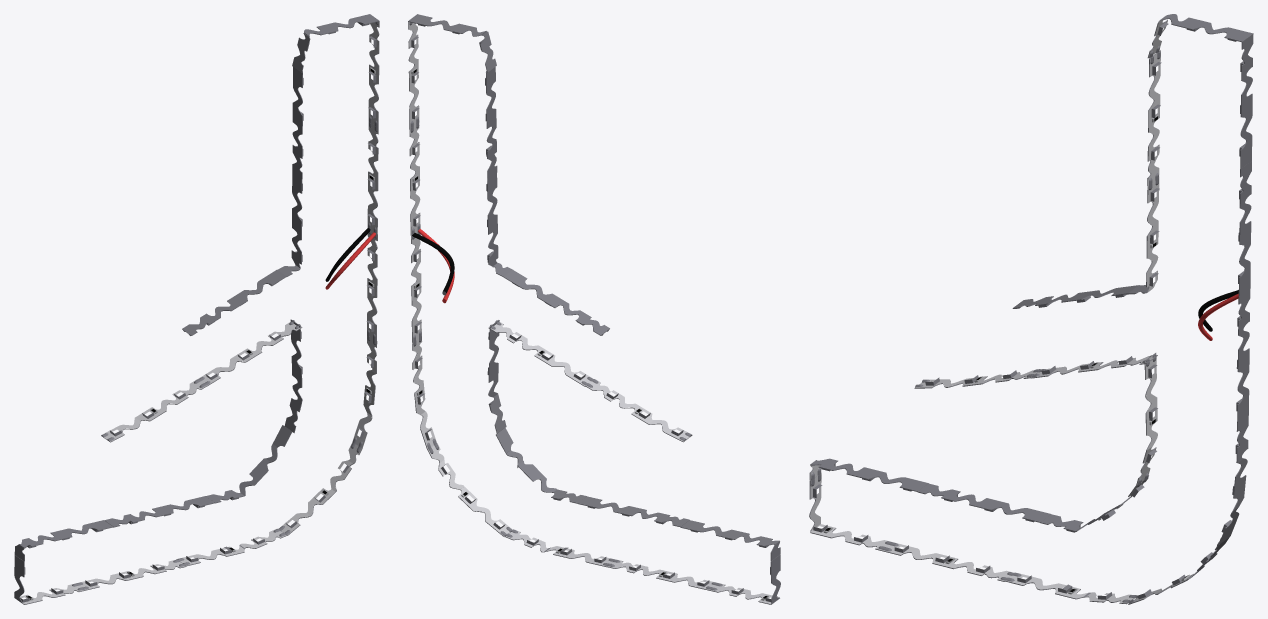
The model's file is fixed.glb.
The picture shows the model from 3 angles, left to right: view 1: azimuth 30°, elevation 25°; view 2: azimuth 150°, elevation 25°; view 3: azimuth 330°, elevation 25°; orthographic projection. The views are drawn at different scales.
Parts seen in each view (by area): view 1: fixed; view 2: fixed; view 3: fixed.
Boxes of the visible parts, x1,y1,x2,y2 form: fixed: [14, 14, 379, 604]; fixed: [408, 14, 780, 604]; fixed: [809, 14, 1253, 604].
Size of the model in its own units: 36.59 by 48.54 by 2.74.
